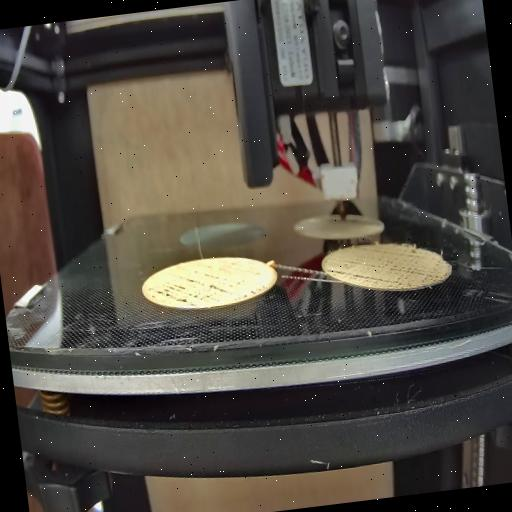under_extrusion: (325, 244, 440, 296), (152, 270, 270, 307)
